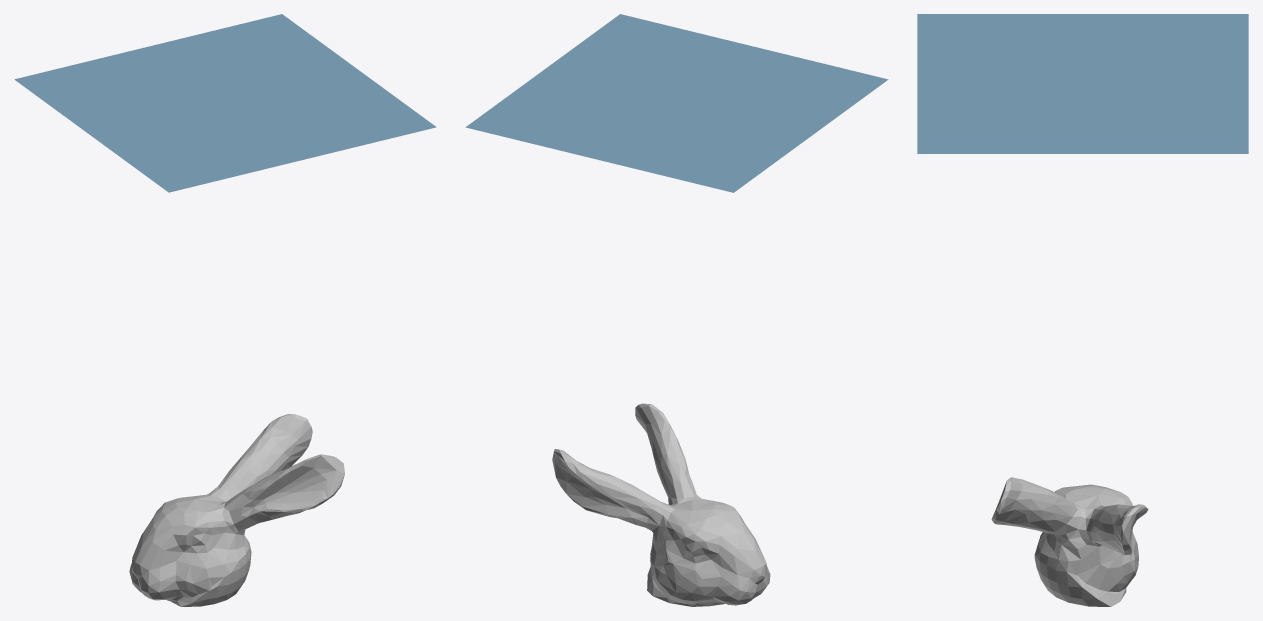
The model's file is init.glb.
3 renders of one model, left to right at view 1: azimuth 30°, elevation 25°; view 2: azimuth 150°, elevation 25°; view 3: azimuth 270°, elevation 25°, orthographic. The views are drawn at different scales.
Parts seen in each view (by area): view 1: world, object.obj; view 2: world, object.obj; view 3: world, object.obj.
Boxes of the visible parts, x1,y1,x2,y2 form: world: [14, 14, 436, 192]; object.obj: [129, 414, 344, 606]; world: [465, 14, 888, 192]; object.obj: [552, 403, 770, 606]; world: [917, 14, 1248, 153]; object.obj: [991, 477, 1148, 606].
Bounding box in the file's own units: 0.583 × 0.9995 × 0.583.
